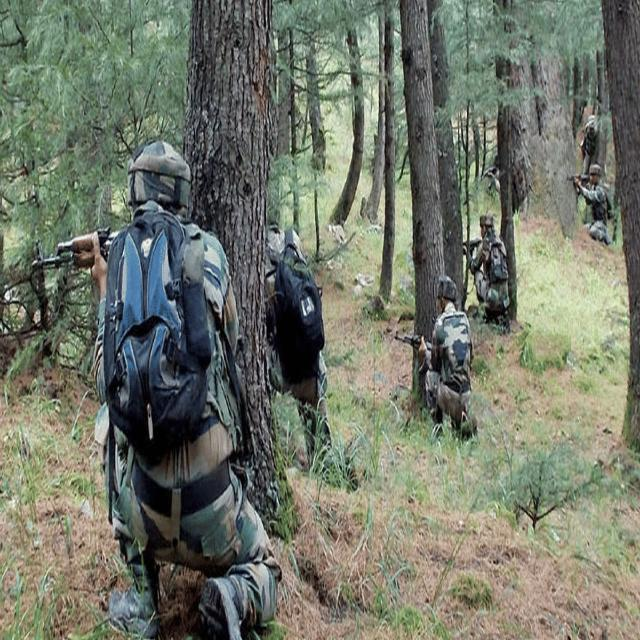Militant: (48, 131, 282, 636), (233, 181, 350, 502), (395, 248, 478, 450), (567, 95, 623, 256), (468, 201, 523, 343)
